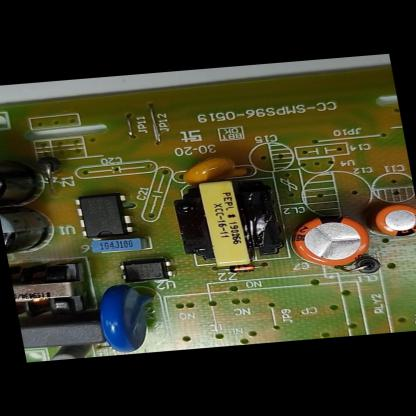Cap1: (284, 210, 378, 272)
Cap2: (364, 199, 416, 244)
Cap3: (0, 201, 61, 264)
Cap4: (0, 152, 45, 212)
MOSFET: (66, 188, 140, 245)
Mov: (90, 277, 169, 356)
Resistor: (46, 340, 95, 360)
Transformer: (166, 170, 294, 276), (8, 254, 107, 326)
